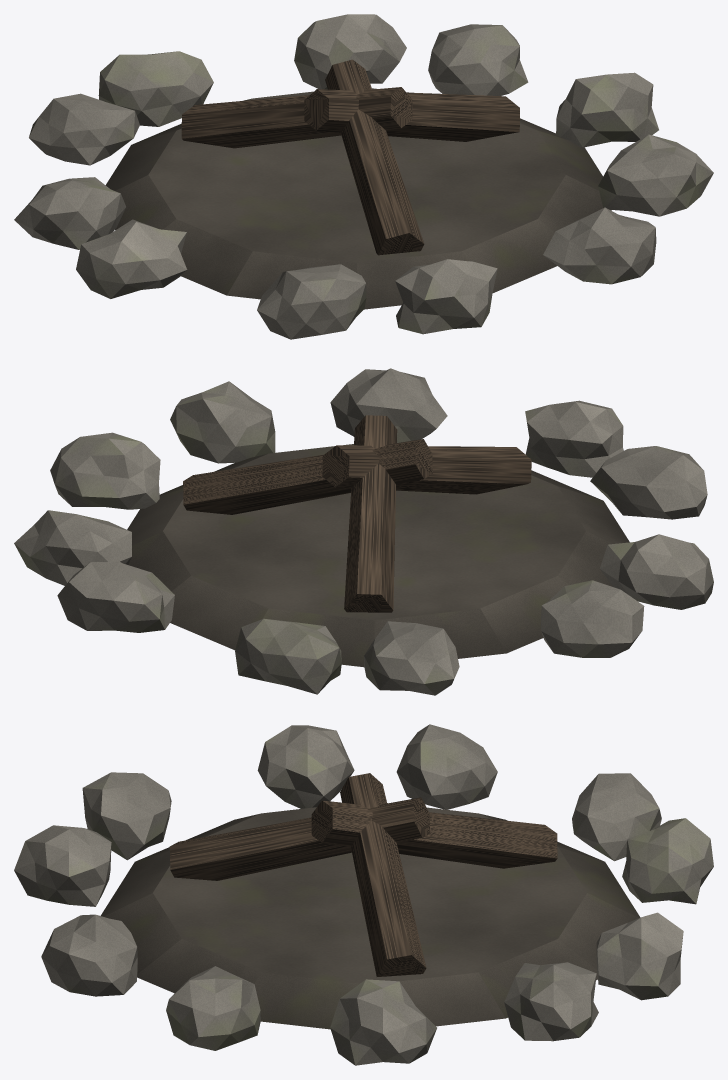
Rendered from focolare.glb.
The picture shows the model from 3 angles, top to bottom: view 1: azimuth 30°, elevation 25°; view 2: azimuth 150°, elevation 25°; view 3: azimuth 270°, elevation 25°; orthographic projection. The views are drawn at different scales.
Parts seen in each view (by area): view 1: focolare; view 2: focolare; view 3: focolare.
Boxes of the visible parts, left/top/right/bottom form: focolare: left=14, top=14, right=713, bottom=339; focolare: left=14, top=368, right=713, bottom=695; focolare: left=14, top=724, right=713, bottom=1065.
Size of the model in its own units: 2.02 by 0.3843 by 1.93.
Materials: 3 (3 with a texture image).
